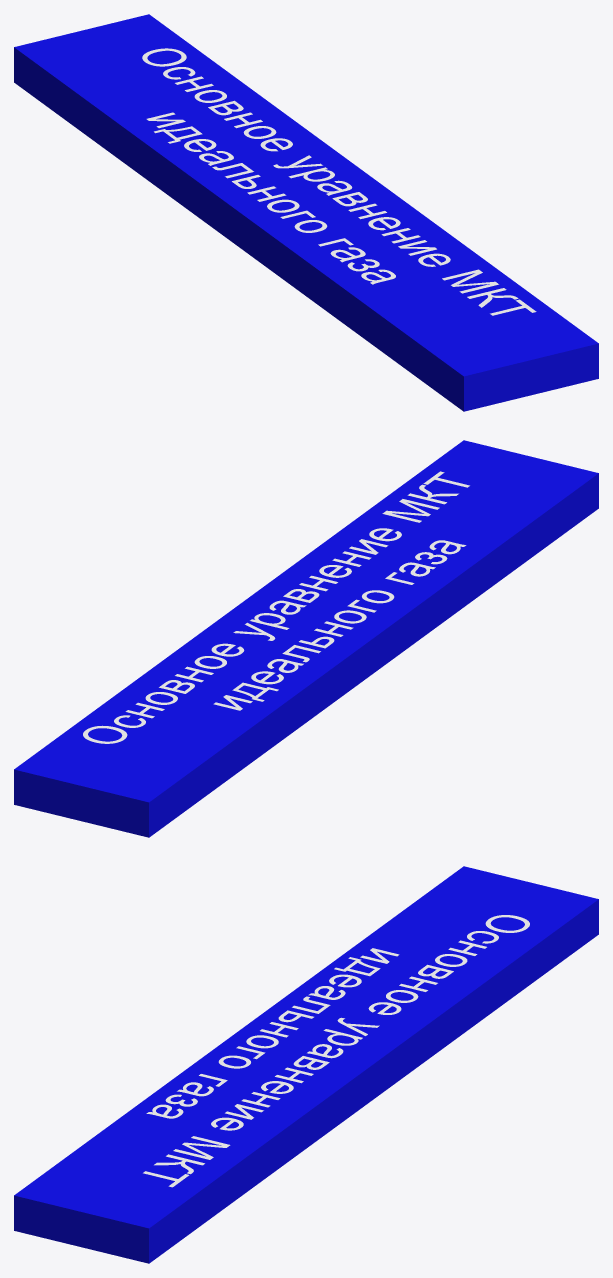
Rendered from yravnenieMKT.FBX.
The picture shows the model from 3 angles, top to bottom: view 1: azimuth 30°, elevation 25°; view 2: azimuth 150°, elevation 25°; view 3: azimuth 330°, elevation 25°; orthographic projection.
Parts seen in each view (by area): view 1: Text001; view 2: Text001; view 3: Text001.
Boxes of the visible parts, x1,y1,x2,y2 form: Text001: (14,14,598,411); Text001: (14,440,598,837); Text001: (14,866,598,1263).
Bounding box in the file's own units: 25.42 × 7.23 × 147.
